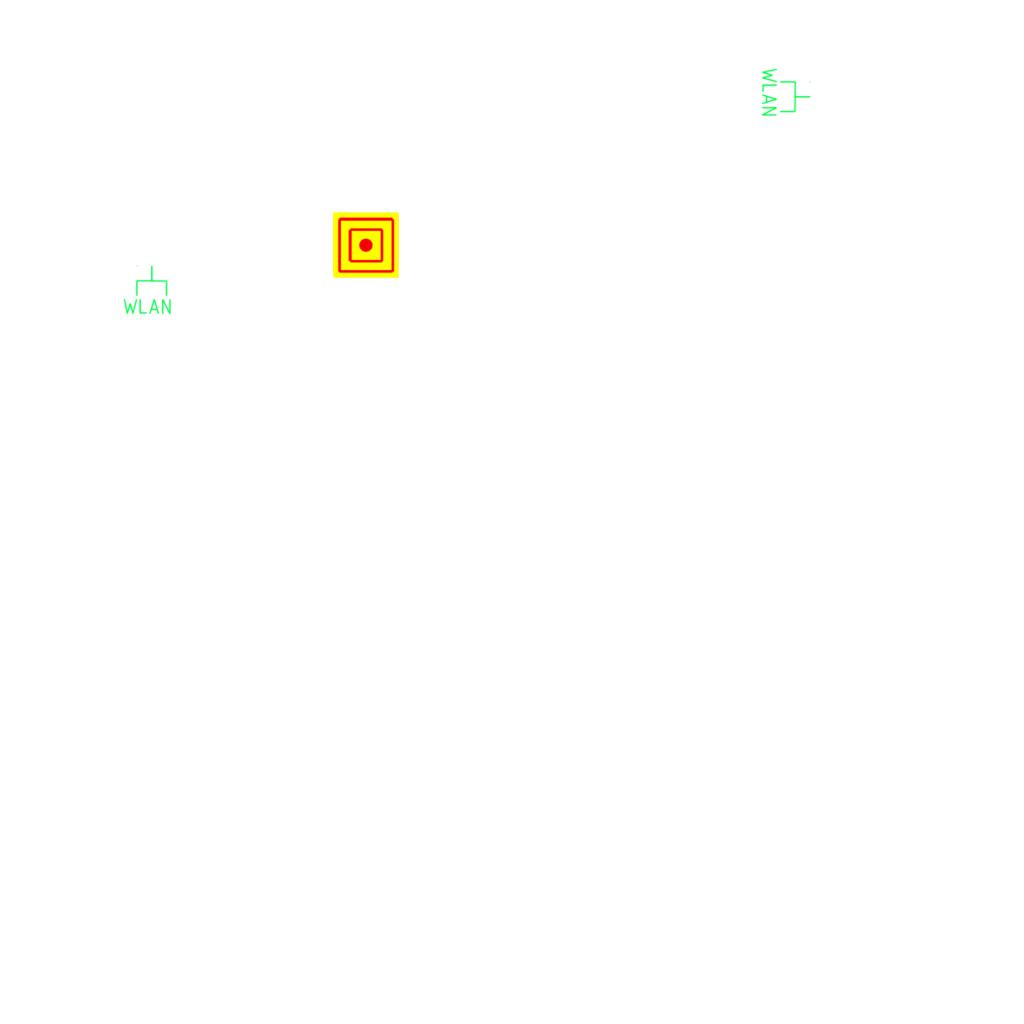NAM-Nichtautomatischer_Melder: (333, 212, 399, 278)
WLAN: (121, 264, 173, 316), (760, 66, 812, 118)
